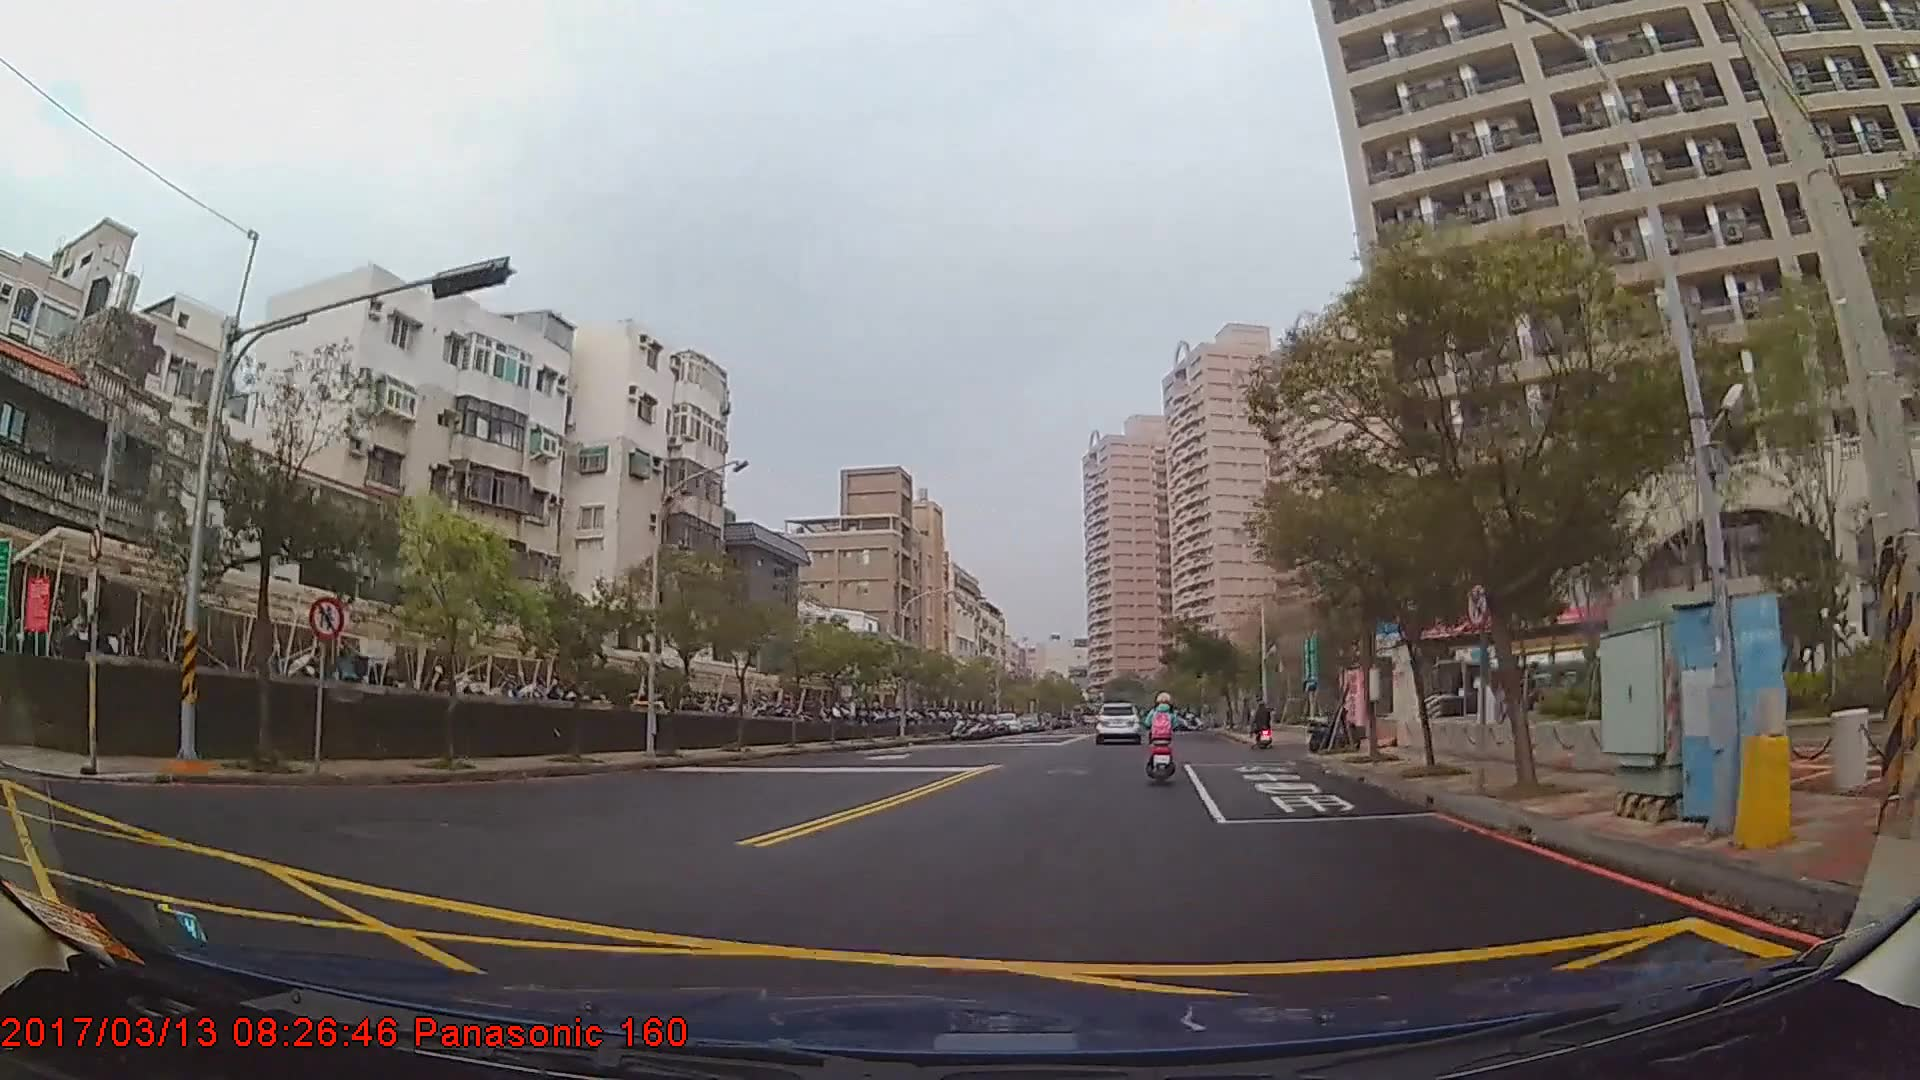rider: (1140, 694, 1189, 780), (1251, 699, 1274, 747)
vehicle: (1092, 698, 1140, 740)
